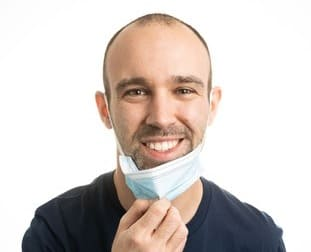with_incorrect_mask: (111, 38, 209, 202)
